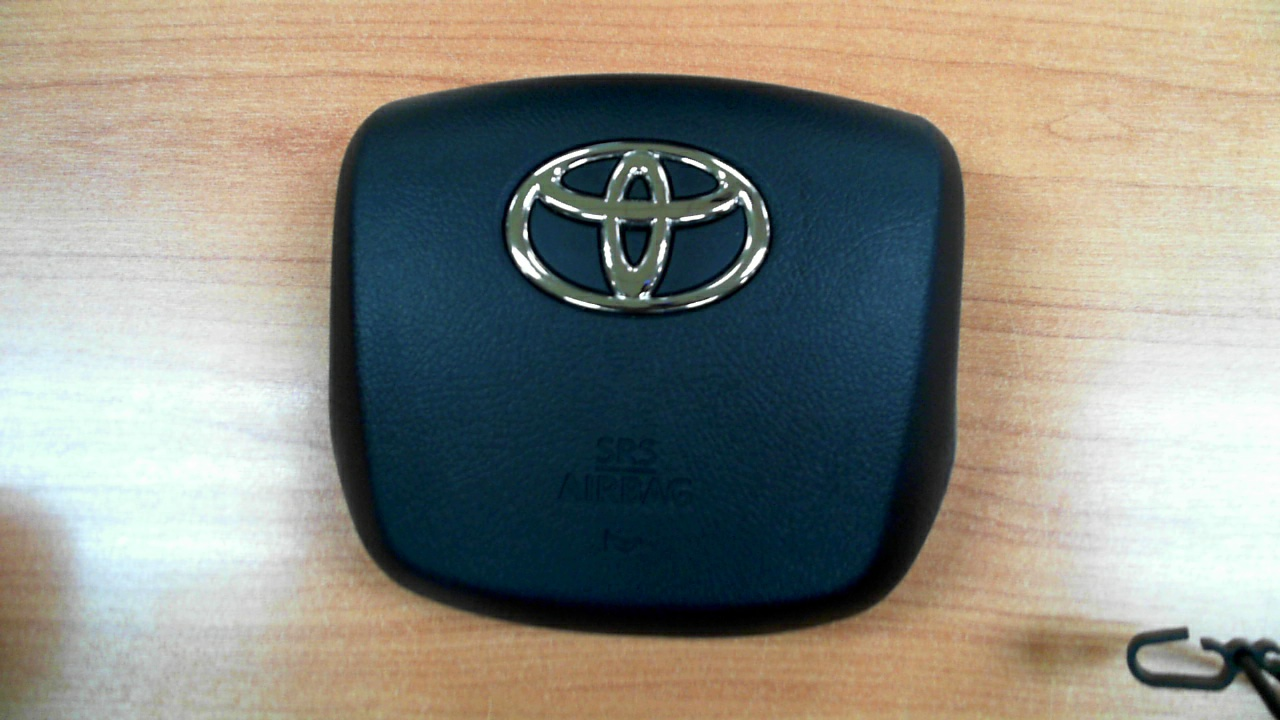Airbag: (282, 27, 1007, 682)
